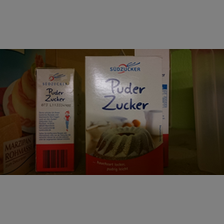sugar: (84, 55, 164, 174), (35, 66, 76, 172)
